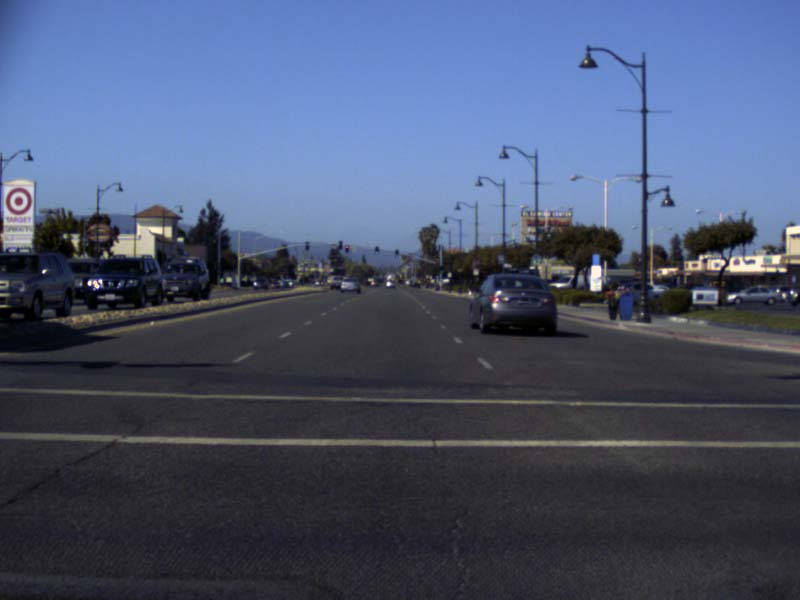Green: (395, 249, 399, 258), (374, 247, 378, 255), (439, 266, 443, 273)
Red: (345, 244, 349, 252)
